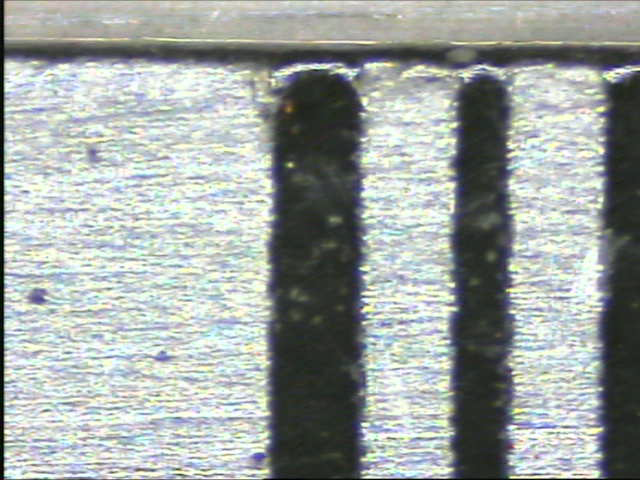line: (267, 56, 369, 475), (447, 58, 517, 477)
